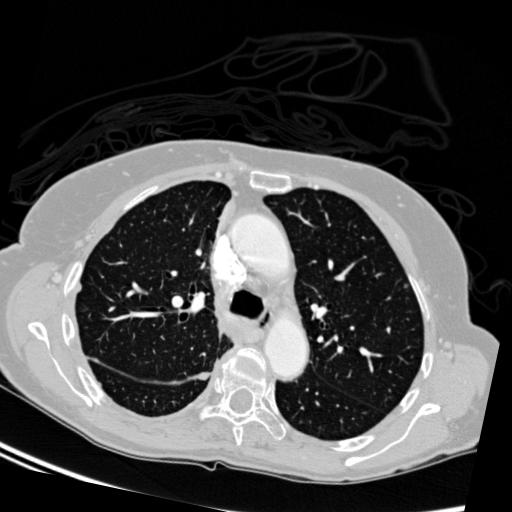nodule: (195, 367, 212, 384)
